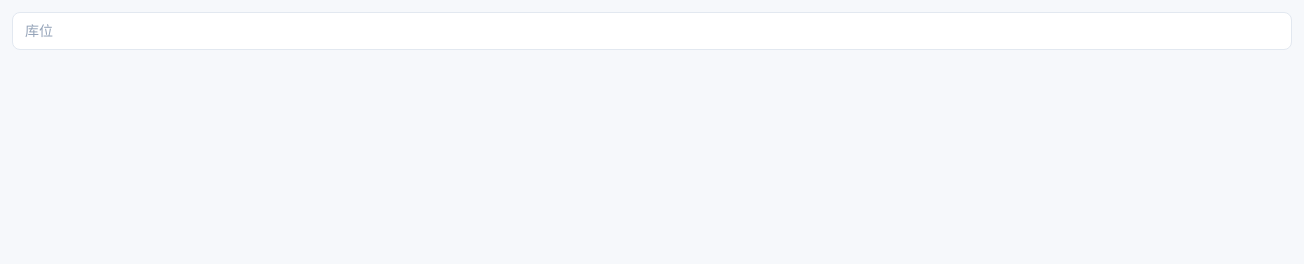
Scenario: SuggestInput（库位候选输入） › 键盘 ↓ + Enter 可选择，Esc 关闭
Click the dropdown: (652, 31) [12,12,1292,50]
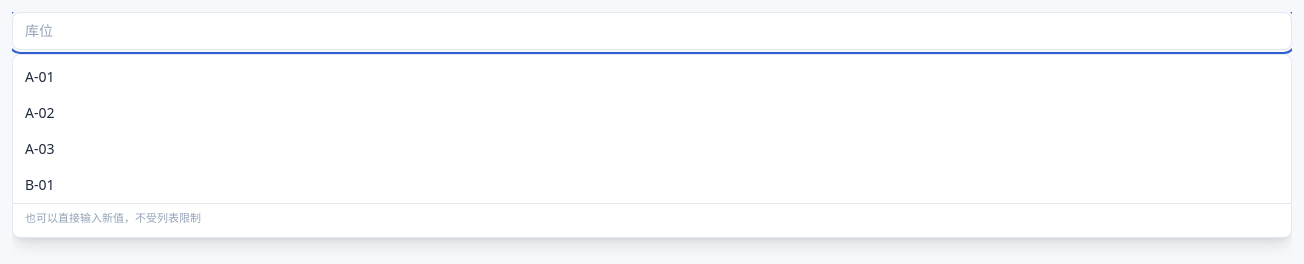
Press Arrowdown
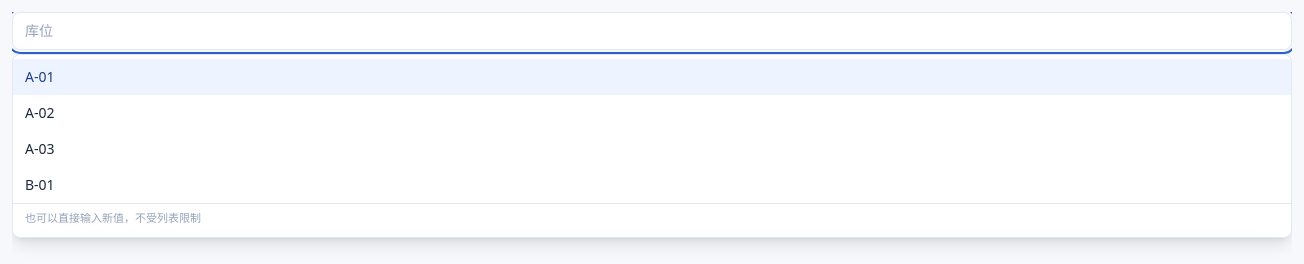
Press Arrowdown
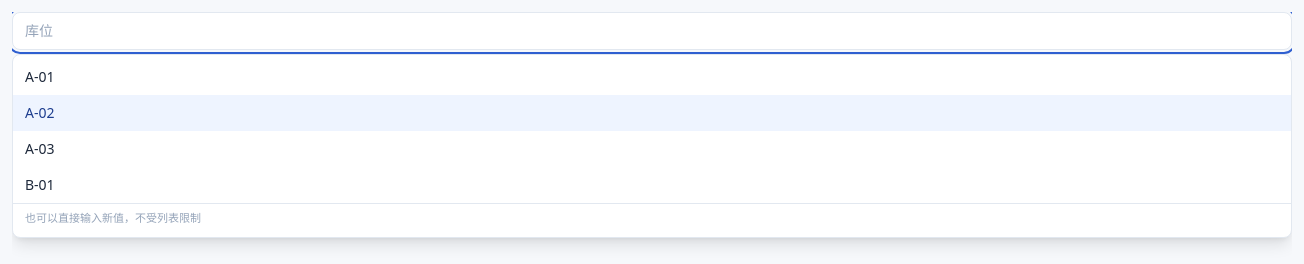
Press Enter
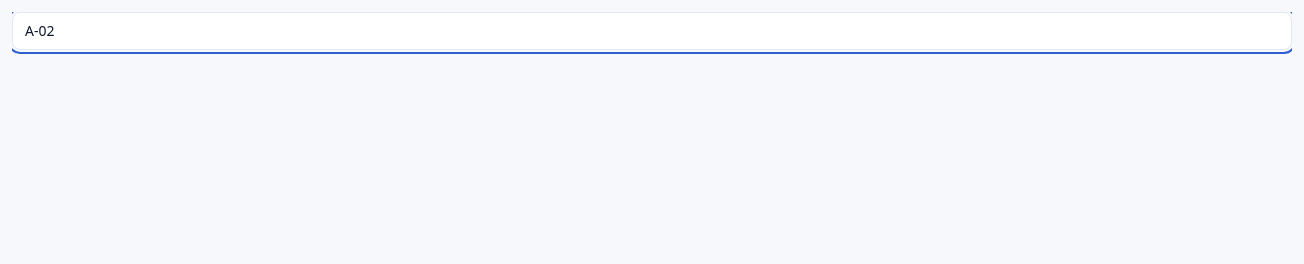
Click the dropdown: (652, 31) [12,12,1292,50]
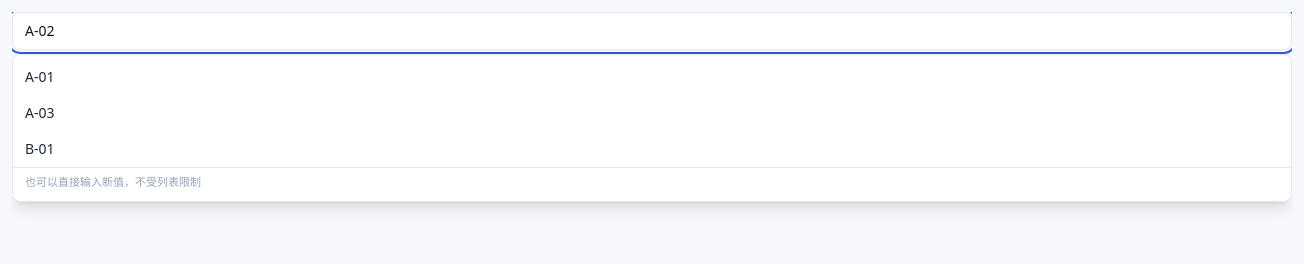
Expected: the list is shown, [12,54,1292,202]
Press Escape
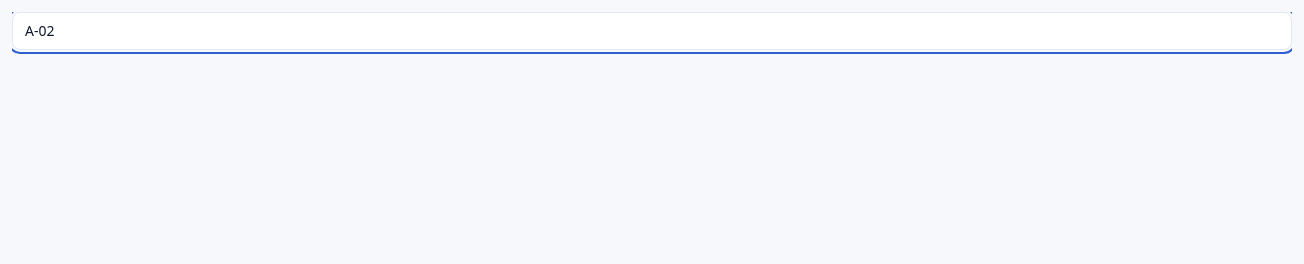
Expected: the list is gone
